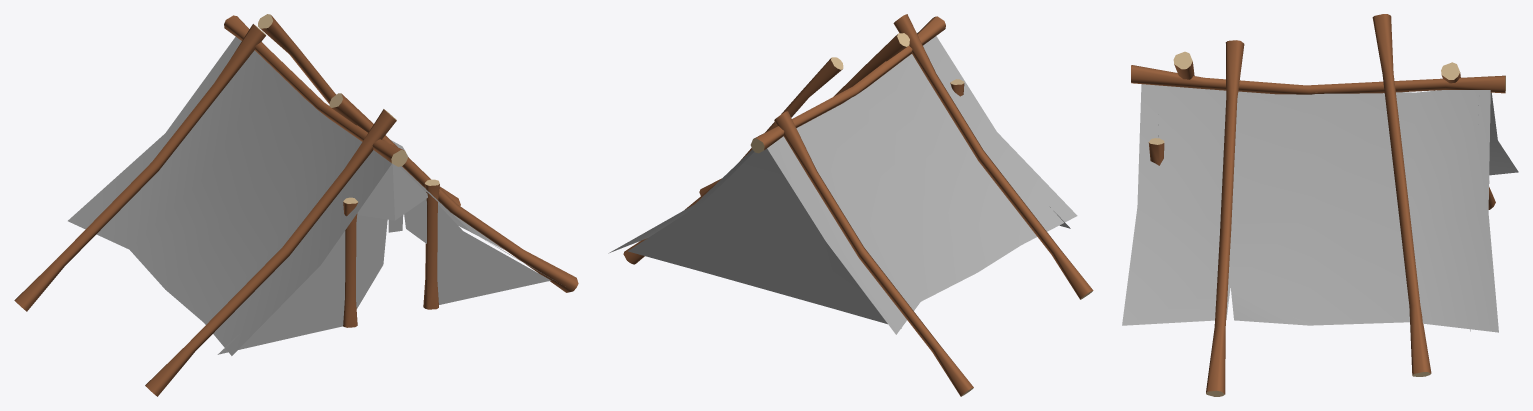
File: tent.fbx
The picture shows the model from 3 angles, left to right: view 1: azimuth 30°, elevation 25°; view 2: azimuth 150°, elevation 25°; view 3: azimuth 270°, elevation 25°; orthographic projection. The views are drawn at different scales.
Visible parts, largest first — view 1: polySurface18, polySurface8, polySurface19, polySurface12, polySurface14, polySurface17, polySurface10, polySurface16; view 2: polySurface18, polySurface8, polySurface19, polySurface14, polySurface10, polySurface12; view 3: polySurface18, polySurface10, polySurface12, polySurface14, polySurface19, polySurface8, polySurface17.
Part boxes in pixels (left/top/right/bottom): polySurface18: left=68, top=37, right=552, bottom=355; polySurface8: left=14, top=24, right=266, bottom=311; polySurface19: left=145, top=109, right=396, bottom=396; polySurface12: left=329, top=93, right=578, bottom=292; polySurface14: left=224, top=15, right=407, bottom=166; polySurface17: left=423, top=179, right=439, bottom=309; polySurface10: left=258, top=14, right=460, bottom=205; polySurface16: left=343, top=197, right=358, bottom=327; polySurface18: left=608, top=36, right=1077, bottom=334; polySurface8: left=774, top=111, right=973, bottom=396; polySurface19: left=893, top=14, right=1093, bottom=299; polySurface14: left=750, top=16, right=945, bottom=153; polySurface10: left=623, top=57, right=843, bottom=264; polySurface12: left=699, top=33, right=909, bottom=195; polySurface18: left=1122, top=84, right=1518, bottom=332; polySurface10: left=1372, top=14, right=1431, bottom=376; polySurface12: left=1206, top=40, right=1244, bottom=396; polySurface14: left=1131, top=65, right=1505, bottom=94; polySurface19: left=1173, top=51, right=1194, bottom=79; polySurface8: left=1441, top=62, right=1495, bottom=209; polySurface17: left=1148, top=138, right=1164, bottom=165.
Bounding box in the file's own units: 624 × 398 × 488.
